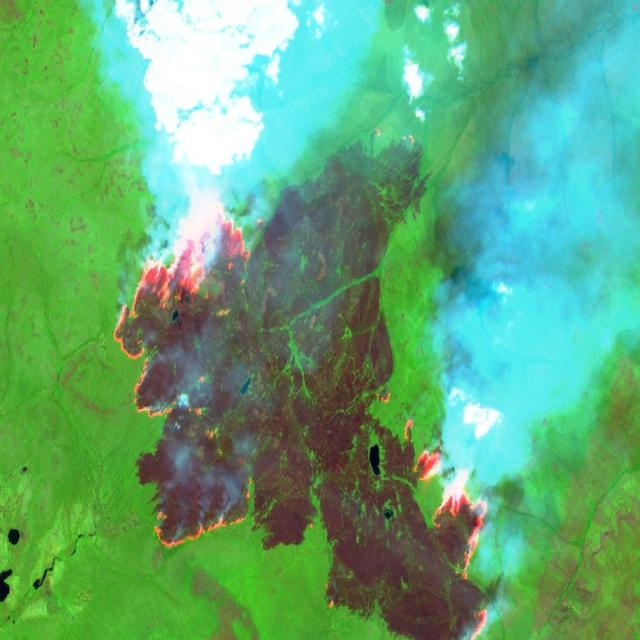fire: (112, 197, 254, 552), (400, 412, 493, 640), (373, 380, 393, 409)
